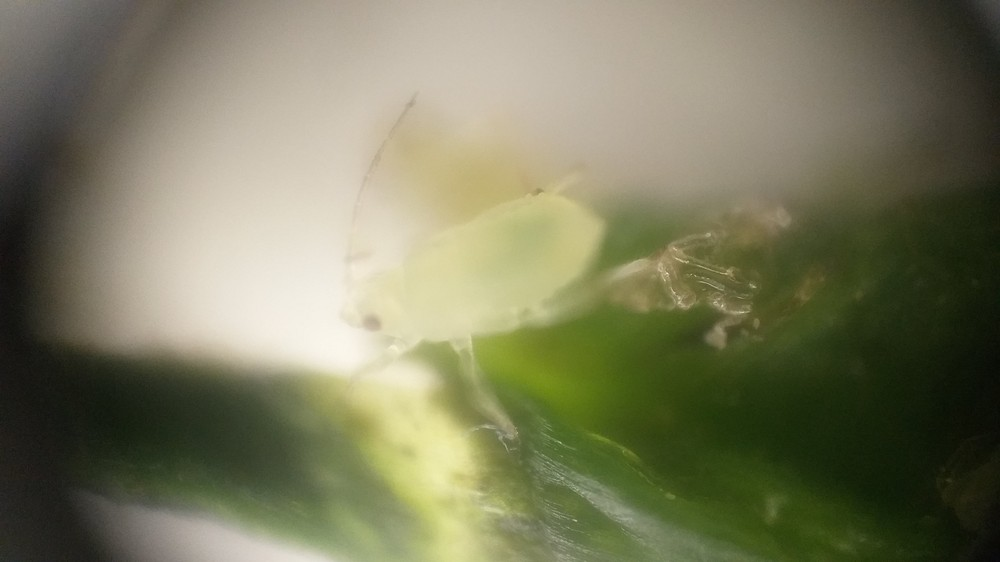Pulgon: (308, 101, 677, 437)
